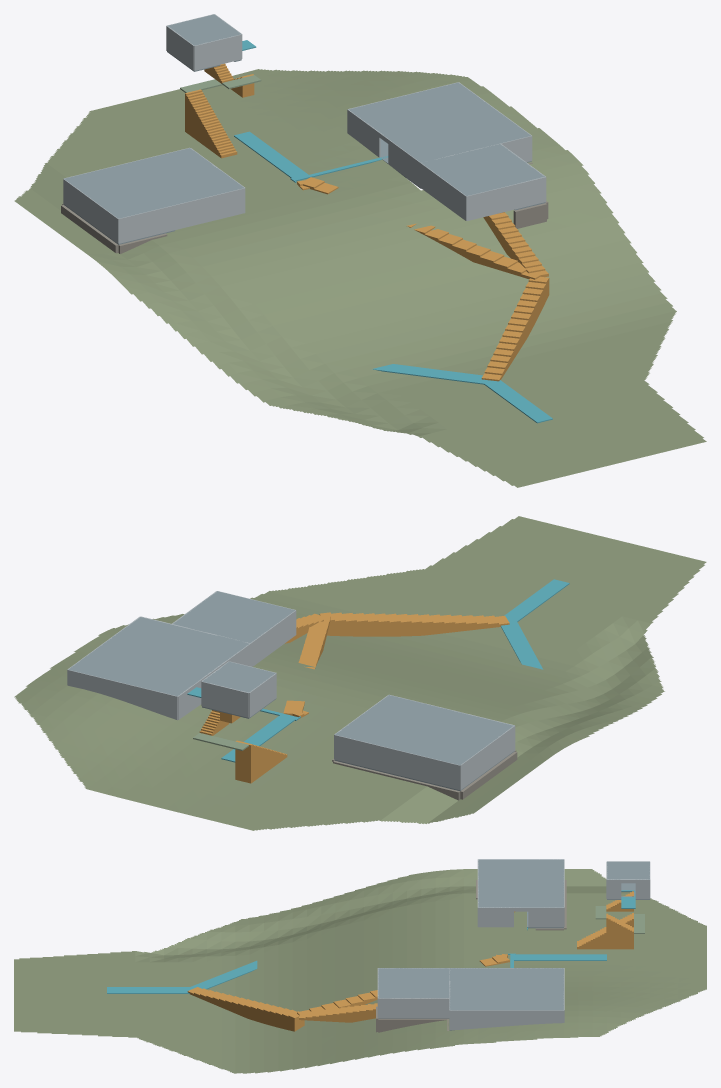
The model's file is occupied-terrain.glb.
3 views of the same model, one above another, from view 1: azimuth 30°, elevation 25°; view 2: azimuth 150°, elevation 25°; view 3: azimuth 270°, elevation 25° (orthographic). The views are drawn at different scales.
Visible parts, largest first — view 1: Saved editor occupied-room terrain WLD-04, Ceiling cap ruin, Ceiling cap hut, Ceiling cap store, Wall hut S, Wall store S, Wall hut W, Ceiling cap cab, Wall cab S, Wall store W, L02 support 0, Wall ruin W (+2 smaller); view 2: Saved editor occupied-room terrain WLD-04, Ceiling cap ruin, Ceiling cap hut, Ceiling cap store, Wall hut N, Wall ruin N, Wall hut W, Ceiling cap cab, Wall cab N, Wall store W, L02 support 0, Wall cab W (+3 smaller); view 3: Saved editor occupied-room terrain WLD-04, Ceiling cap ruin, Ceiling cap hut, Ceiling cap store, Wall ruin E, Wall store E, Ceiling cap cab, Wall hut E, Wall hut E.001, L02 support 0.
Part boxes in pixels (left/top/right/bottom): Saved editor occupied-room terrain WLD-04: left=14, top=69, right=706, bottom=487; Ceiling cap ruin: left=348, top=82, right=530, bottom=162; Ceiling cap hut: left=64, top=148, right=243, bottom=218; Ceiling cap store: left=421, top=144, right=544, bottom=195; Wall hut S: left=118, top=188, right=245, bottom=243; Wall store S: left=466, top=177, right=545, bottom=220; Wall hut W: left=63, top=179, right=118, bottom=243; Ceiling cap cab: left=168, top=14, right=241, bottom=45; Wall cab S: left=194, top=34, right=241, bottom=70; Wall store W: left=420, top=163, right=466, bottom=220; L02 support 0: left=372, top=364, right=489, bottom=384; Wall ruin W: left=347, top=109, right=380, bottom=157; Saved editor occupied-room terrain WLD-04: left=14, top=516, right=706, bottom=830; Ceiling cap ruin: left=68, top=617, right=249, bottom=696; Ceiling cap hut: left=335, top=695, right=513, bottom=765; Ceiling cap store: left=173, top=591, right=294, bottom=643; Wall hut N: left=334, top=735, right=460, bottom=790; Wall ruin N: left=67, top=669, right=177, bottom=720; Wall hut W: left=460, top=725, right=515, bottom=789; Ceiling cap cab: left=202, top=661, right=275, bottom=692; Wall cab N: left=201, top=681, right=248, bottom=717; Wall store W: left=250, top=610, right=296, bottom=666; L02 support 0: left=500, top=620, right=543, bottom=669; Wall cab W: left=249, top=673, right=276, bottom=717; Saved editor occupied-room terrain WLD-04: left=14, top=869, right=706, bottom=1073; Ceiling cap ruin: left=449, top=968, right=563, bottom=1010; Ceiling cap hut: left=478, top=859, right=563, bottom=907; Ceiling cap store: left=378, top=968, right=449, bottom=998; Wall ruin E: left=449, top=1010, right=563, bottom=1029; Wall store E: left=378, top=998, right=449, bottom=1017; Ceiling cap cab: left=607, top=861, right=649, bottom=879; Wall hut E: left=528, top=907, right=563, bottom=927; Wall hut E.001: left=478, top=907, right=513, bottom=927; L02 support 0: left=191, top=960, right=257, bottom=989.
Size of the model in its own units: 59 by 19.15 by 97.
